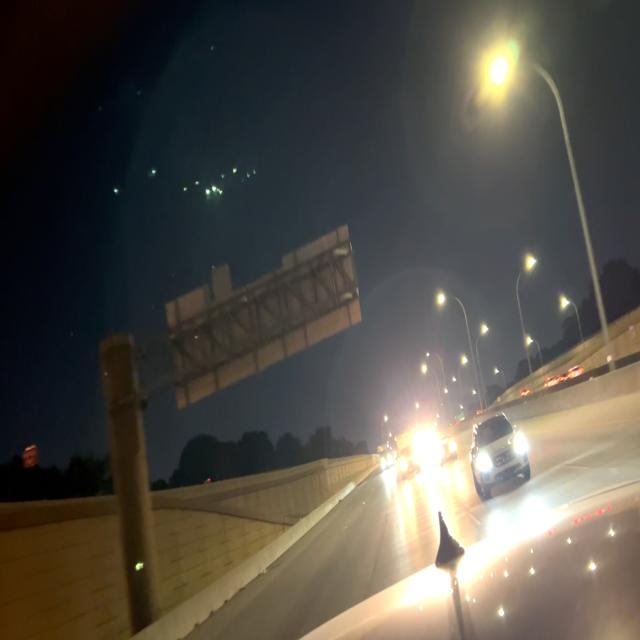back-of-sign: (163, 222, 363, 412)
